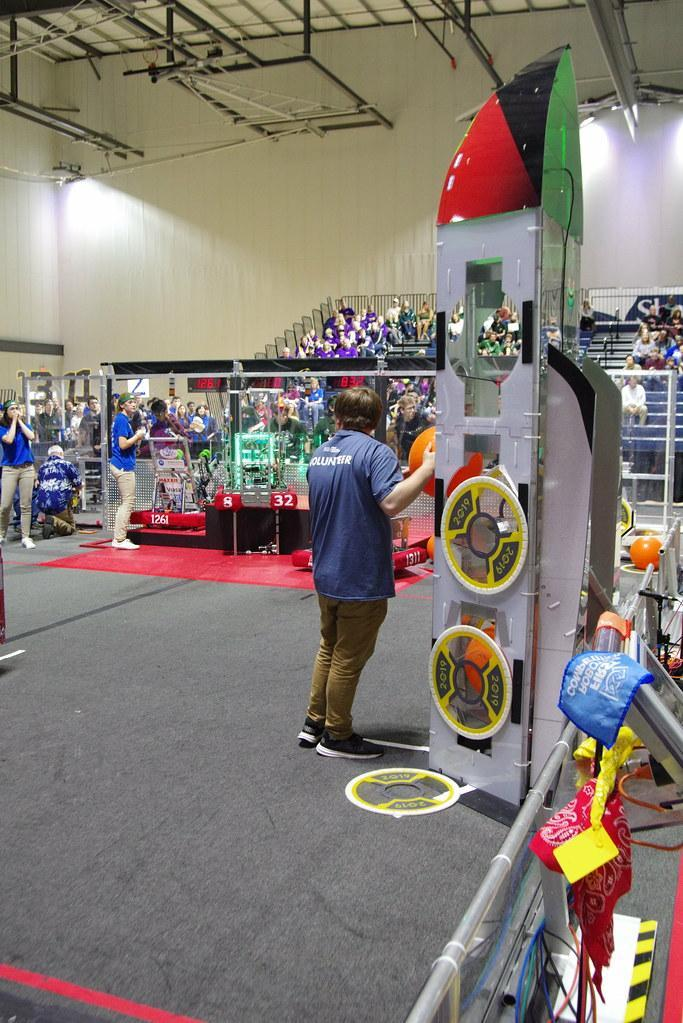robot: (290, 436, 439, 590), (201, 421, 307, 517), (127, 427, 219, 536)
